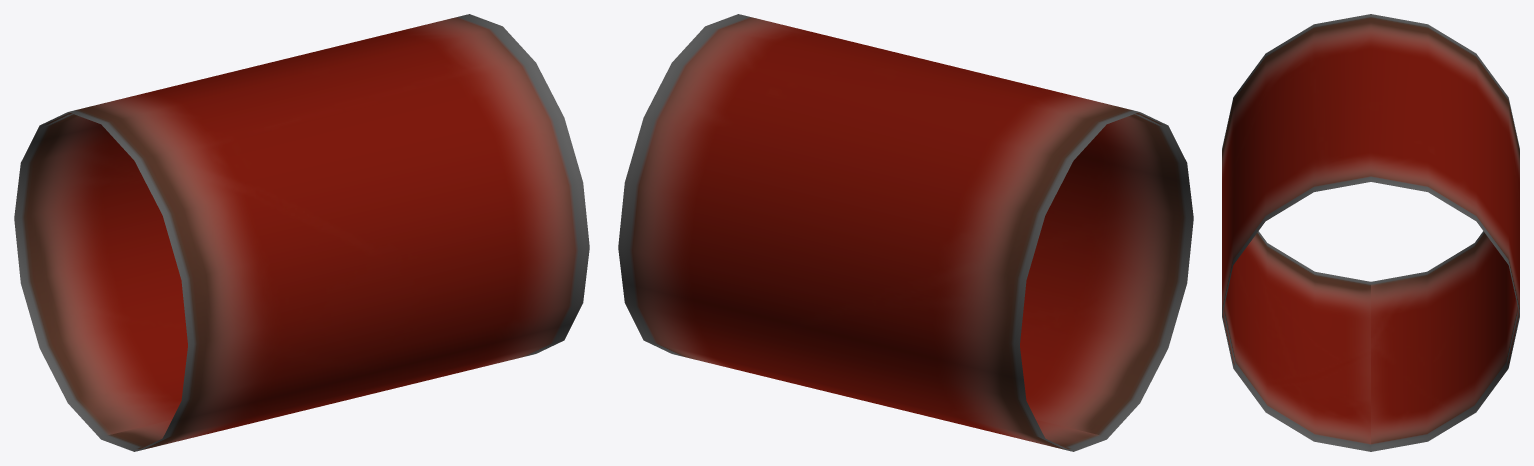
File: pipe01_str_16a_hollow.fbx
The picture shows the model from 3 angles, left to right: view 1: azimuth 30°, elevation 25°; view 2: azimuth 150°, elevation 25°; view 3: azimuth 270°, elevation 25°; orthographic projection. The views are drawn at different scales.
Visible parts, largest first — view 1: pipe01_str_16a_hollow; view 2: pipe01_str_16a_hollow; view 3: pipe01_str_16a_hollow.
Part boxes in pixels (<box>): pipe01_str_16a_hollow: <box>14,14,589,451</box>; pipe01_str_16a_hollow: <box>618,14,1193,451</box>; pipe01_str_16a_hollow: <box>1222,14,1519,451</box>.
Bounding box in the file's own units: 16 × 12 × 12.
